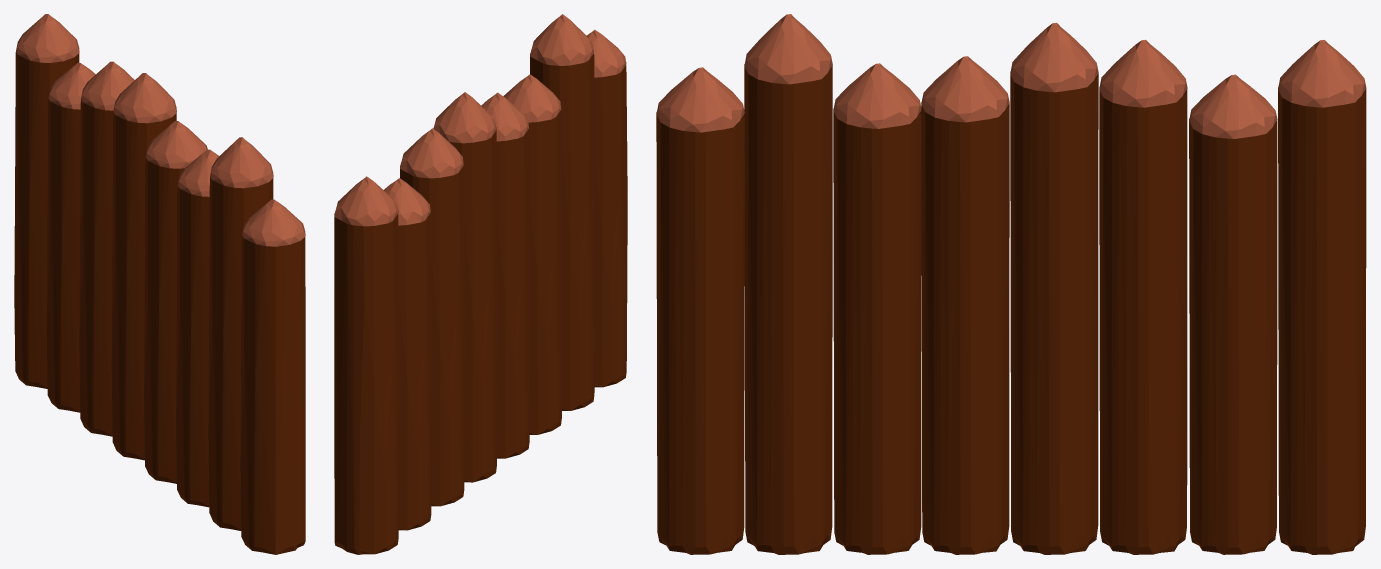
Rendered from paredtroncos.fbx.
The picture shows the model from 3 angles, left to right: view 1: azimuth 30°, elevation 25°; view 2: azimuth 150°, elevation 25°; view 3: azimuth 270°, elevation 25°; orthographic projection. The views are drawn at different scales.
Parts seen in each view (by area): view 1: Cylinder.005, Cylinder.006, Cylinder.001, Cylinder.004, Cylinder.002, Cylinder.008, Cylinder.007, Cylinder.003; view 2: Cylinder.004, Cylinder.006, Cylinder.002, Cylinder.001, Cylinder.007, Cylinder.008, Cylinder.003, Cylinder.005; view 3: Cylinder.006, Cylinder.001, Cylinder.002, Cylinder.004, Cylinder.008, Cylinder.007, Cylinder.005, Cylinder.003.
Boxes of the visible parts, bbox=[...] form: Cylinder.005: bbox=[240, 199, 305, 554]; Cylinder.006: bbox=[208, 137, 273, 530]; Cylinder.001: bbox=[111, 73, 176, 460]; Cylinder.004: bbox=[14, 14, 79, 388]; Cylinder.002: bbox=[79, 61, 134, 436]; Cylinder.008: bbox=[144, 121, 207, 483]; Cylinder.007: bbox=[176, 149, 218, 507]; Cylinder.003: bbox=[46, 63, 95, 412]; Cylinder.004: bbox=[334, 176, 399, 554]; Cylinder.006: bbox=[530, 14, 595, 410]; Cylinder.002: bbox=[400, 128, 465, 506]; Cylinder.001: bbox=[433, 92, 497, 482]; Cylinder.007: bbox=[503, 74, 562, 434]; Cylinder.008: bbox=[481, 92, 530, 458]; Cylinder.003: bbox=[384, 178, 432, 530]; Cylinder.005: bbox=[586, 30, 627, 387]; Cylinder.006: bbox=[744, 14, 832, 554]; Cylinder.001: bbox=[1010, 22, 1098, 554]; Cylinder.002: bbox=[1099, 39, 1187, 554]; Cylinder.004: bbox=[1278, 40, 1366, 554]; Cylinder.008: bbox=[921, 56, 1009, 554]; Cylinder.007: bbox=[833, 63, 921, 554]; Cylinder.005: bbox=[656, 67, 744, 554]; Cylinder.003: bbox=[1189, 74, 1277, 554].
Bounding box in the file's own units: 150 × 984 × 1206.
